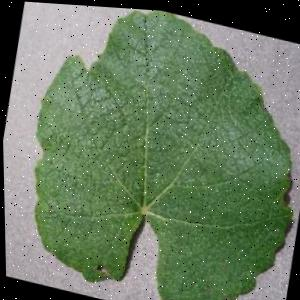Folha: (6, 0, 300, 300)
